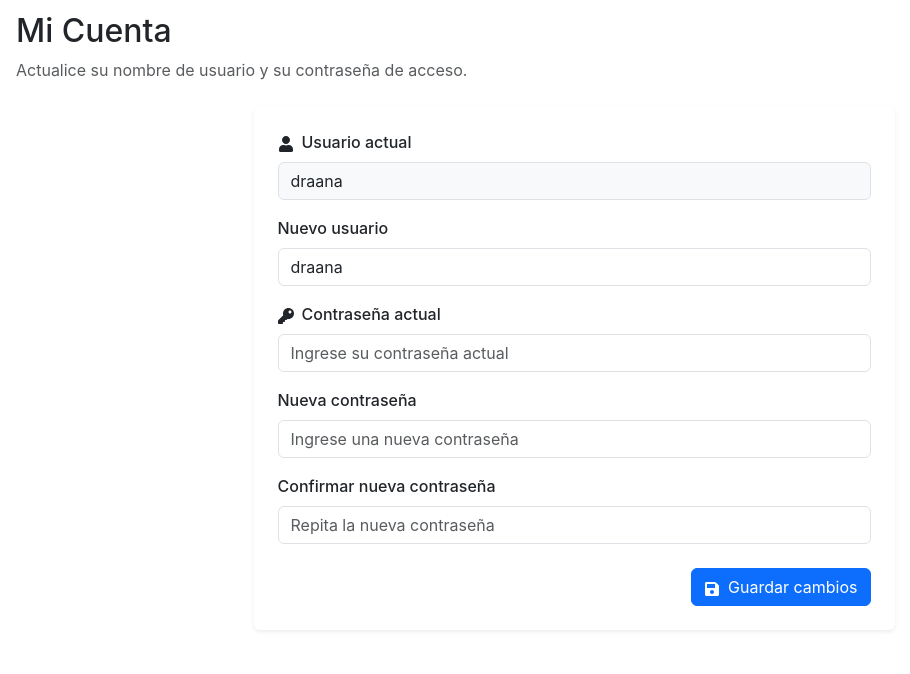
Test: Cuenta › valida confirmación de contraseña
Step 1. Type "actual123" into the password field with placeholder "Ingrese su contraseña actual" → (574, 353), box 278,334 -> 870,372
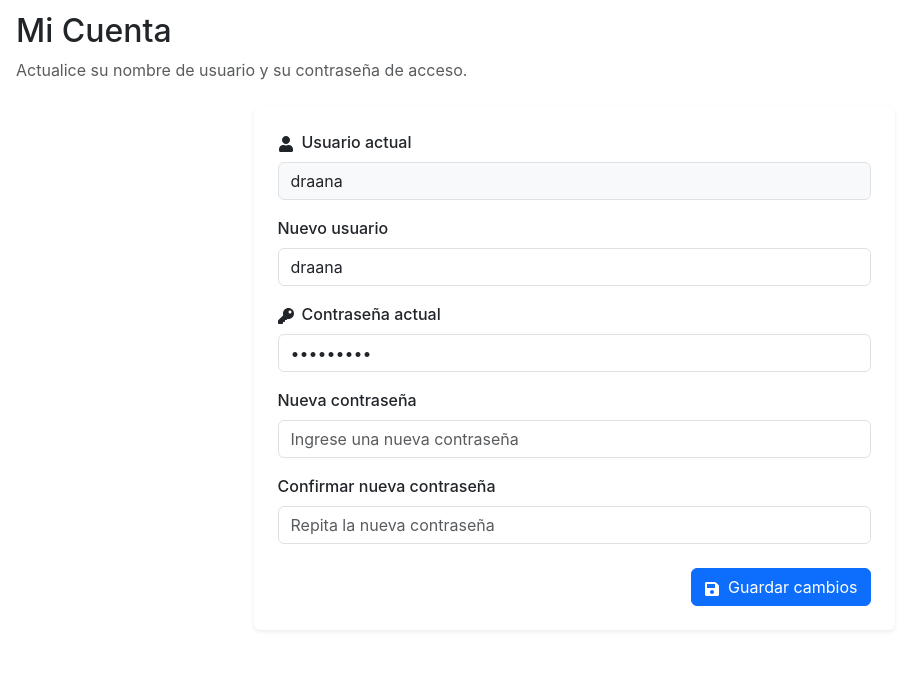
Step 2. Type "nueva123" into the password field with placeholder "Ingrese una nueva contraseña" → (574, 439), box 278,420 -> 870,458
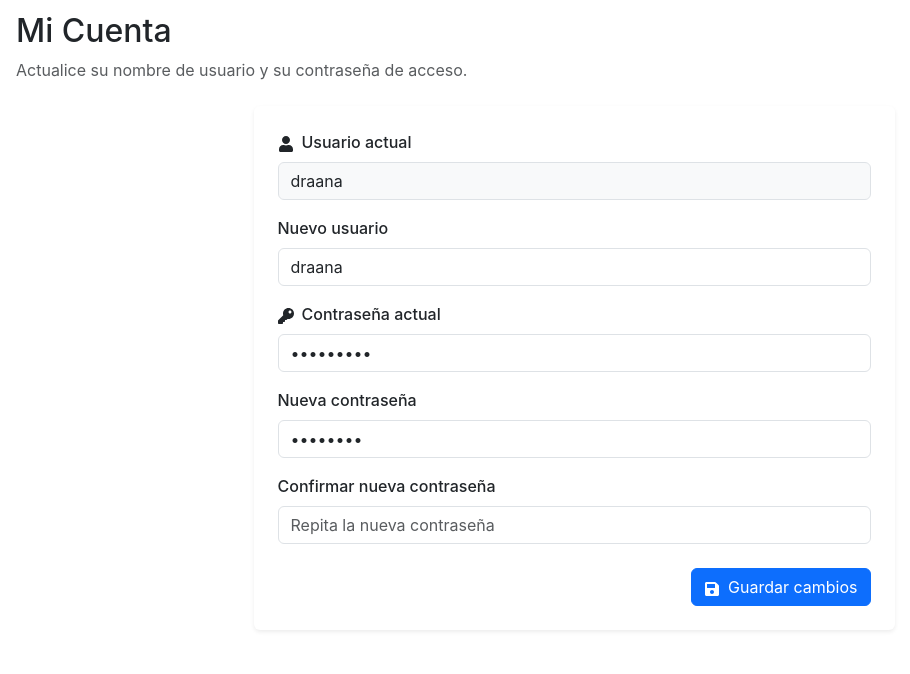
Step 3. Type "otra123" into the password field with placeholder "Repita la nueva contraseña" → (574, 525), box 278,506 -> 870,544
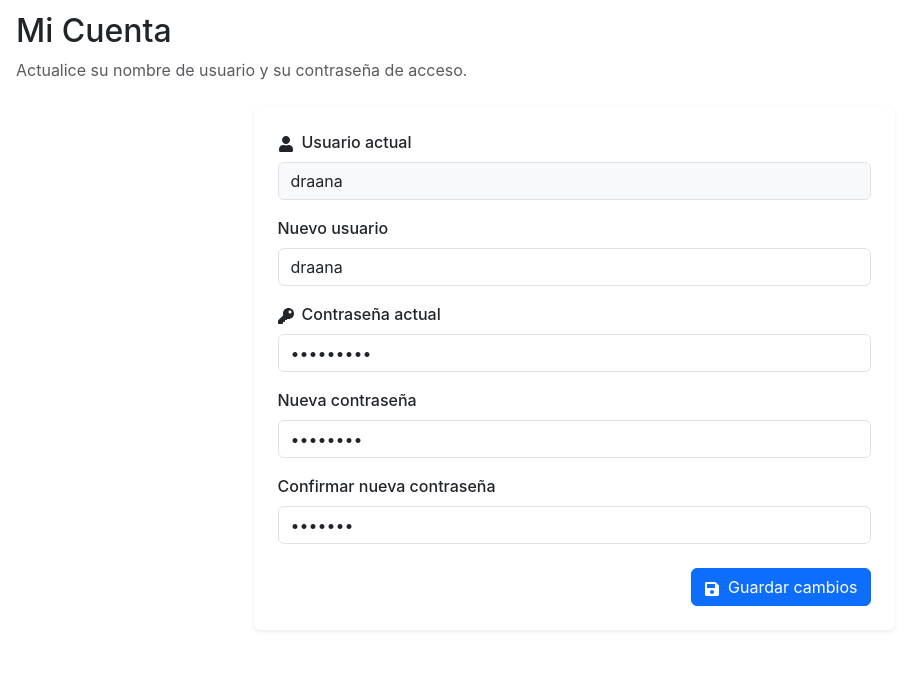
Step 4. Click the button "Guardar cambios" → (781, 587), box 691,568 -> 870,606
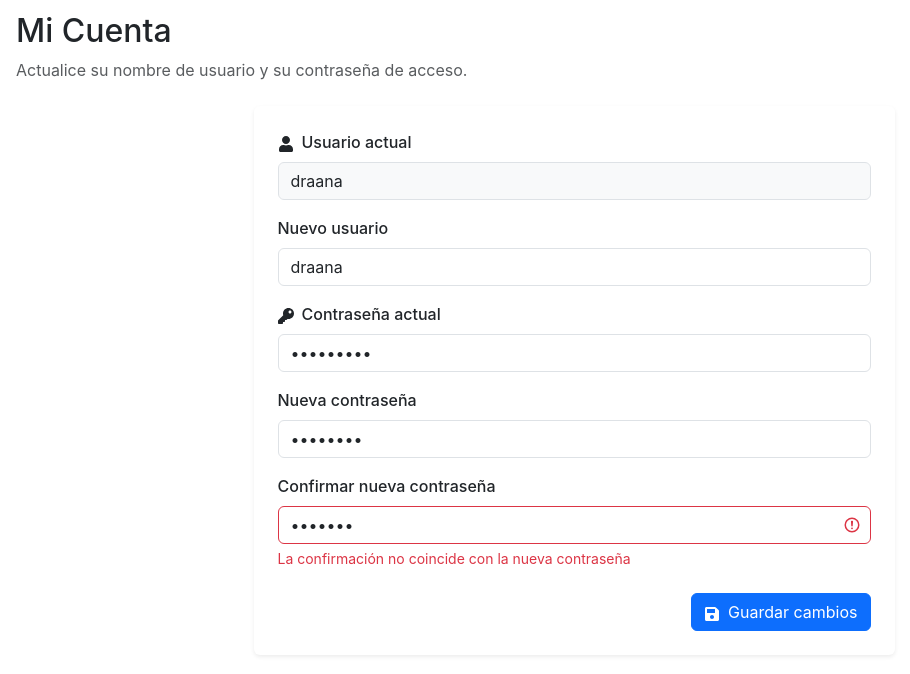
Check: the text "La confirmación no coincide con la nueva contraseña" is shown, box 278,550 -> 631,567
